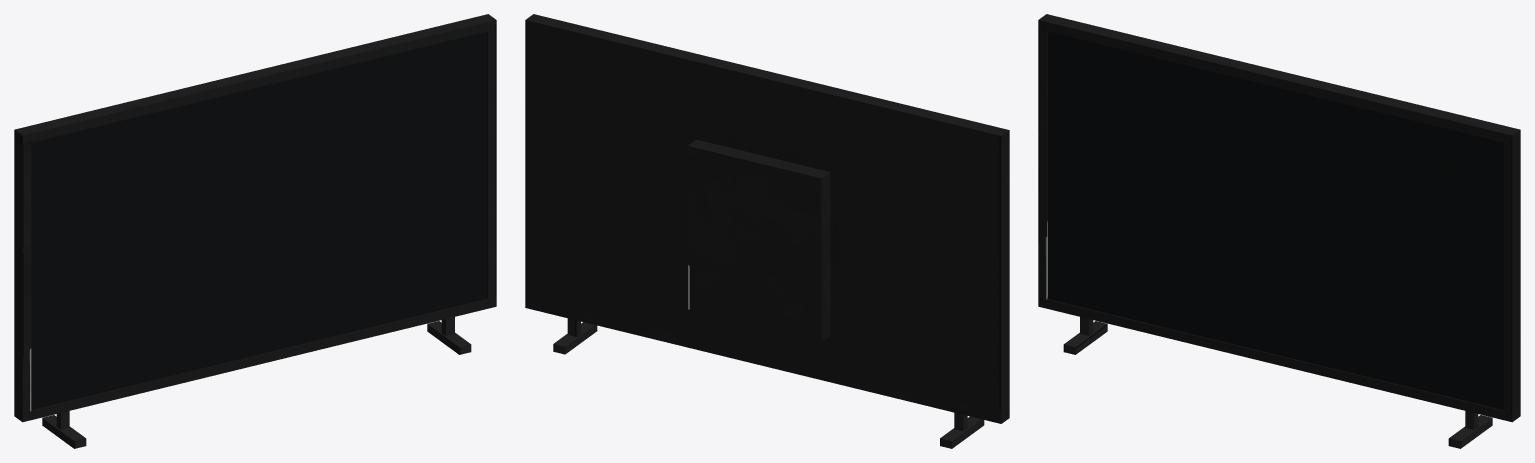
3 views of the same model, side by side, from view 1: azimuth 30°, elevation 25°; view 2: azimuth 150°, elevation 25°; view 3: azimuth 330°, elevation 25° (orthographic).
Visible parts, largest first — view 1: H_TV__H_TV_Screen, H_TV__H_TV; view 2: H_TV__H_TV; view 3: H_TV__H_TV_Screen, H_TV__H_TV.
Part boxes in pixels (bbox=[...]): H_TV__H_TV_Screen: bbox=[31, 31, 486, 409]; H_TV__H_TV: bbox=[14, 14, 496, 448]; H_TV__H_TV: bbox=[525, 14, 1009, 448]; H_TV__H_TV_Screen: bbox=[1048, 31, 1503, 409]; H_TV__H_TV: bbox=[1038, 14, 1520, 448].
Bounding box in the file's own units: 640 × 404 × 75.
1 material, 1 textured.
